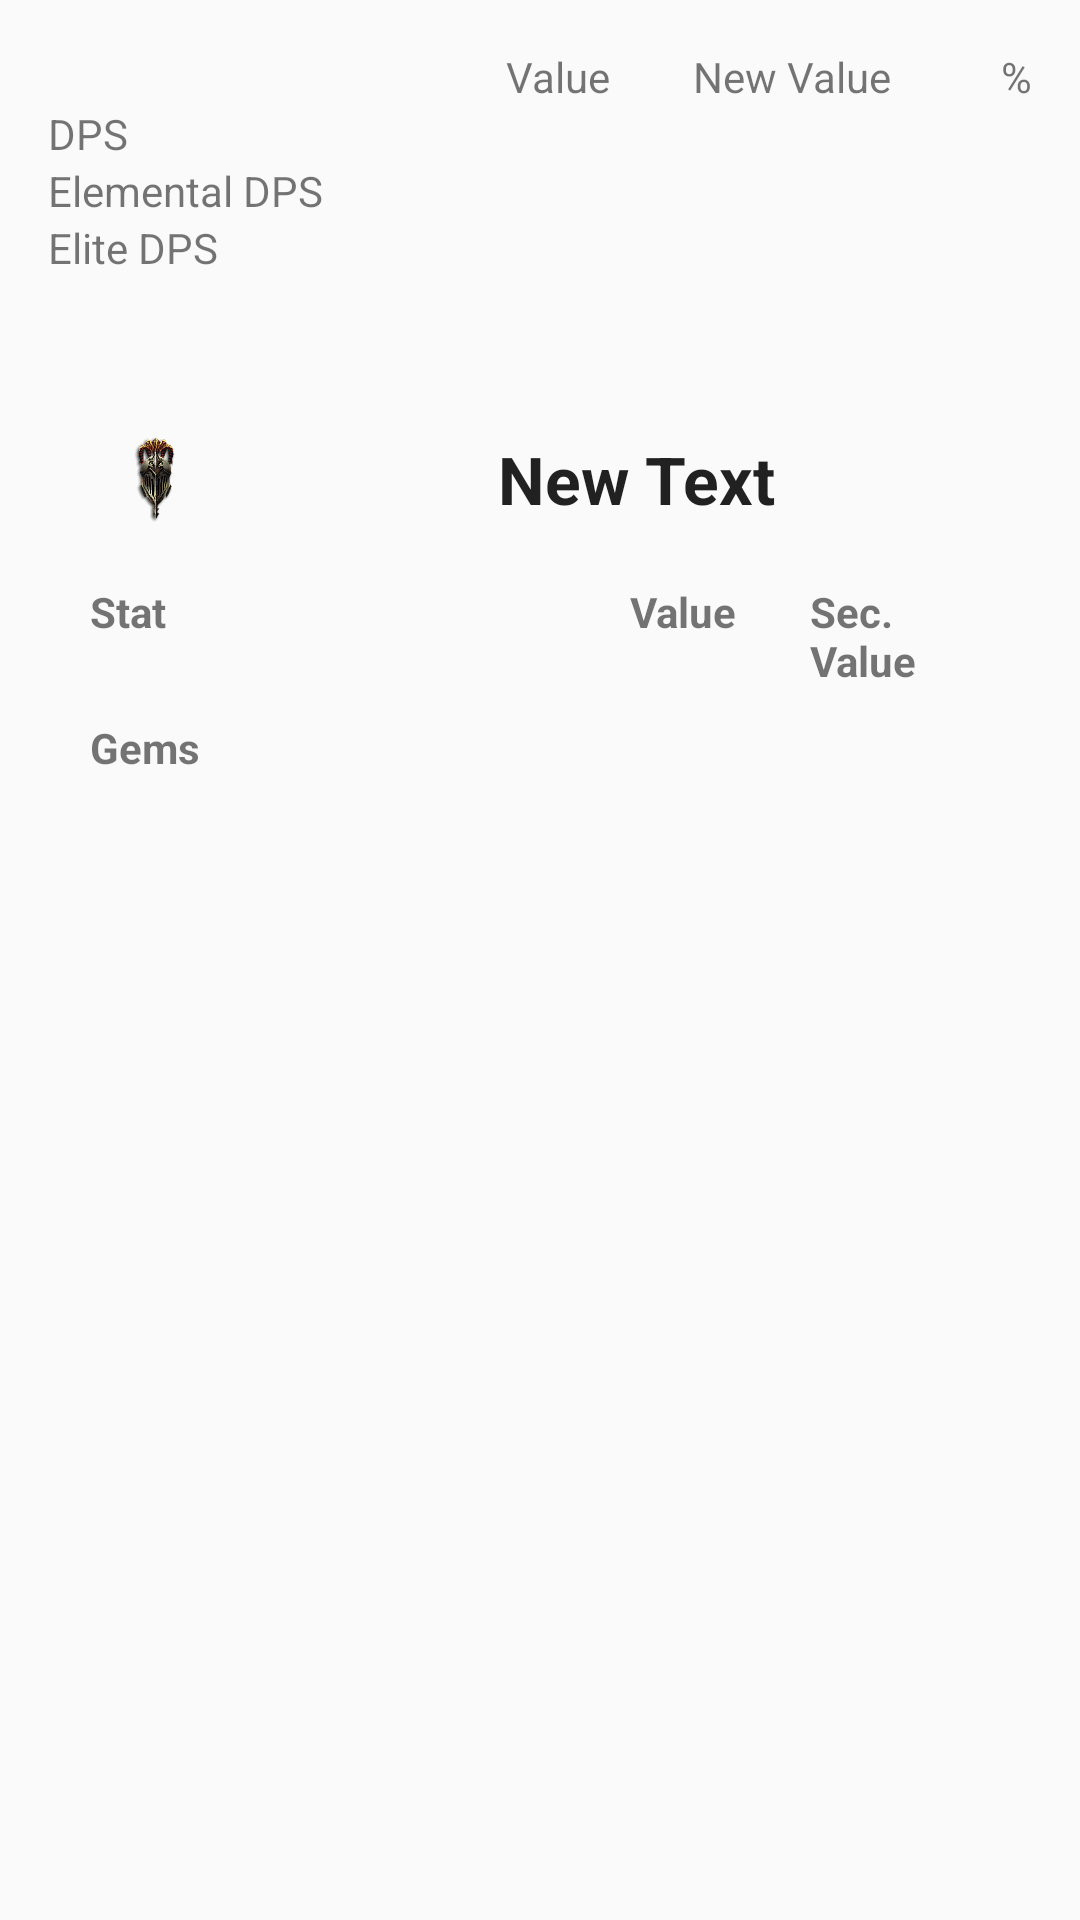

Icon bounding boxes for this 1080w x 1920h phone screenshot, format (x1, y1, x2, y2):
unique helm demonhunter male: (135, 438, 174, 521)
